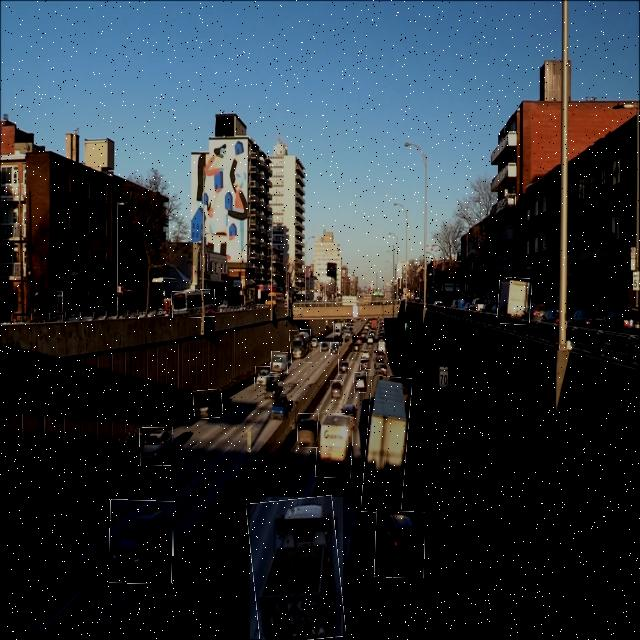Bus: (172, 290, 215, 317)
Car: (110, 500, 174, 583), (374, 511, 424, 578), (140, 428, 173, 466), (194, 389, 222, 419), (298, 414, 318, 448), (272, 394, 288, 420), (264, 376, 280, 401), (271, 352, 288, 373), (255, 366, 270, 387), (354, 372, 367, 393), (330, 380, 344, 399), (338, 359, 349, 375), (330, 342, 339, 355), (360, 360, 371, 370), (310, 336, 318, 348), (320, 342, 329, 352)
Truck: (250, 497, 343, 640), (364, 376, 409, 514), (316, 413, 353, 478), (498, 278, 532, 324), (289, 330, 312, 363), (333, 321, 342, 341)
